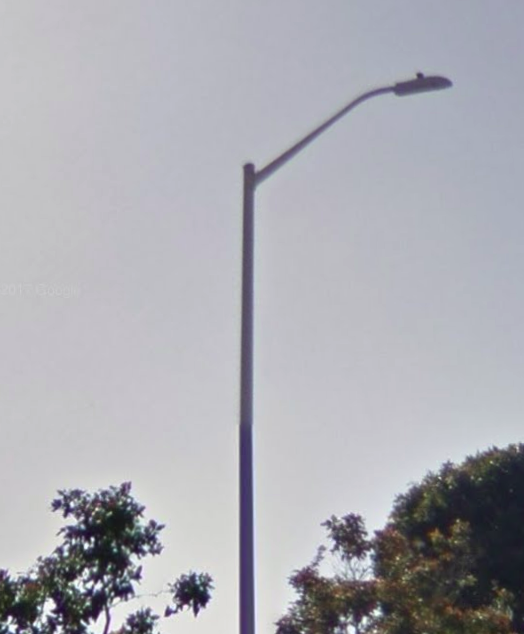pole: (227, 67, 461, 444)
